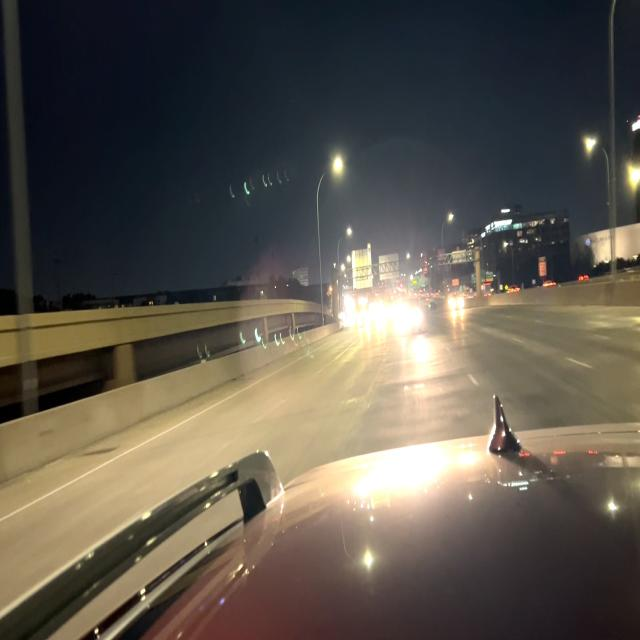back-of-sign: (351, 244, 373, 292), (377, 252, 401, 283), (450, 247, 469, 266)
